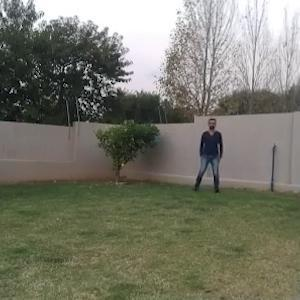follow: (204, 120, 220, 183)
